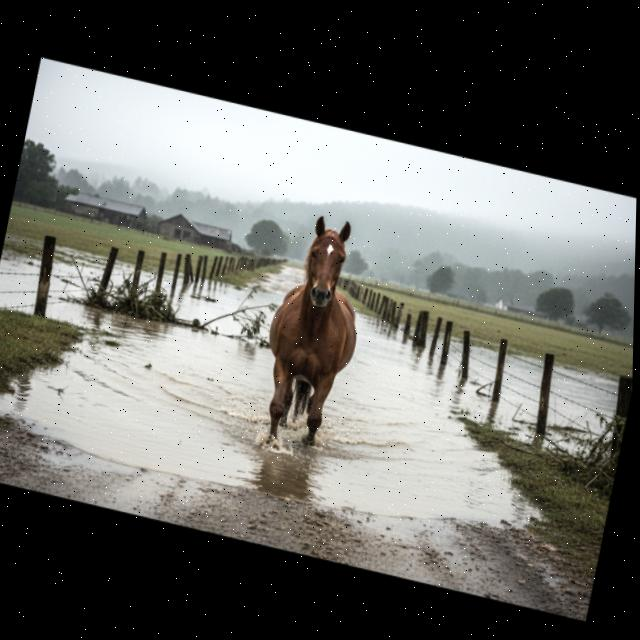horse: (224, 188, 401, 478)
